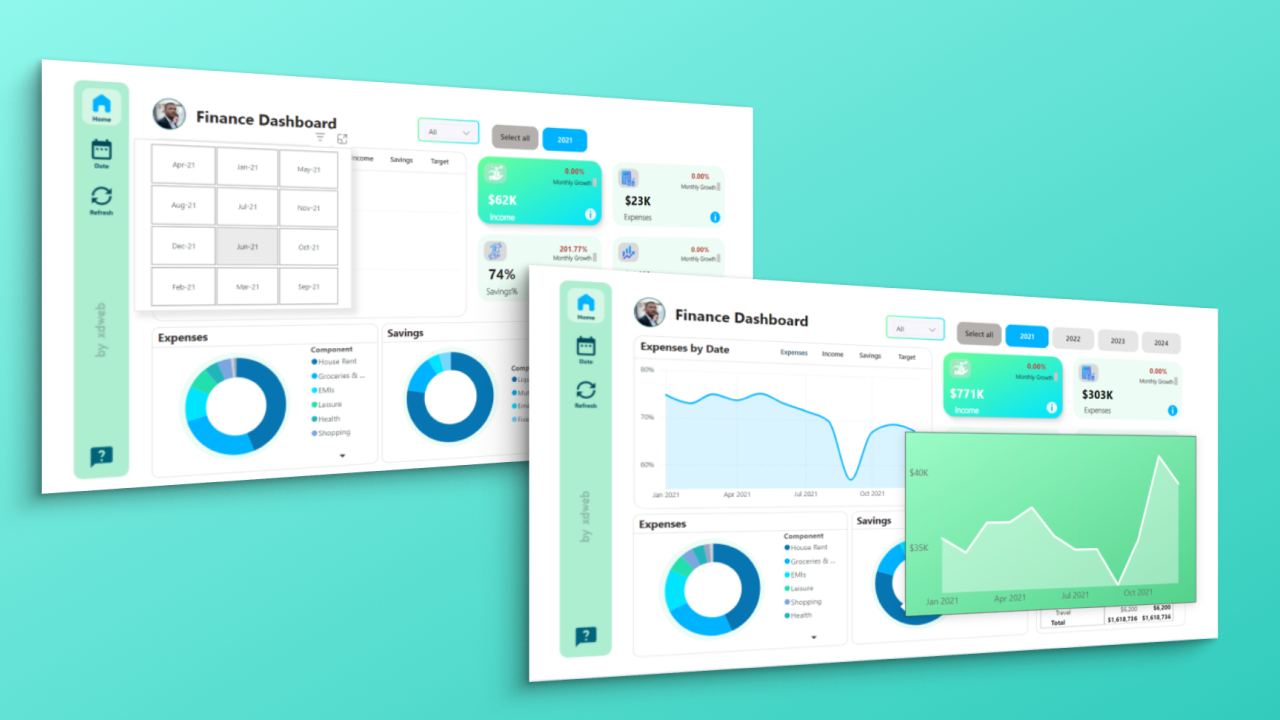

What the dashboard file says about the page in this screenshot:
{"tool":"powerbi","page":{"name":"Page 1","canvas":[1280,720],"ordinal":0},"visuals":[{"type":"donutChart","title":"Savings","fields":{"Y":["Dataset.Savings"],"Category":["Dataset.Component"]},"box":[536.2,437.5,360,252.5],"z":0},{"type":"card","fields":{"Values":["Dataset.Expenses"]},"box":[993.8,167.5,113.8,88.8],"z":1000},{"type":"areaChart","fields":{"Y":["Dataset.Line_Chart_Measures"],"Category":["Dataset.Date"]},"box":[146.4,120,547.3,307.3],"z":2000},{"type":"card","fields":{"Values":["Dataset.Savings"]},"box":[993.8,326.2,108.8,71.2],"z":3000},{"type":"card","fields":{"Values":["Dataset.Savings%"]},"box":[711.2,317.5,107.5,80],"z":4000},{"type":"advancedSlicerVisual","fields":{"Values":["Dataset.Year"]},"box":[753.8,31.2,468.8,58.8],"z":5000},{"type":"donutChart","title":"Expenses","fields":{"Category":["Dataset.Component"],"Y":["Dataset.Expenses"]},"box":[145,437.5,382.5,252.5],"z":6000},{"type":"pivotTable","fields":{"Values":["Dataset.Total_Values"],"Rows":["Dataset.Type","Dataset.Component"],"Columns":["Dataset.Year"]},"box":[913.8,437.5,343.8,252.5],"z":7000},{"type":"card","fields":{"Values":["Dataset.Income"]},"box":[716.4,180.9,97.3,74.5],"z":8000},{"type":"textbox","box":[210.9,55.5,300,46.4],"z":9000},{"type":"slicer","fields":{"Values":["Selected_Date.Month-yr"]},"box":[595.5,55.5,128.2,46.4],"z":10000},{"type":"advancedSlicerVisual","fields":{"Values":["Line_Selection_Table.Type"]},"box":[390.9,122.7,290,37.3],"z":11000},{"type":"card","fields":{"Values":["Dataset.Ex_ws_Sav"]},"box":[573.3,155,150,81.7],"z":12000},{"type":"card","fields":{"Values":["Dataset.Income_Monthly_Gr"]},"box":[882.9,135,61.8,26.4],"z":13000,"group":"g1"},{"type":"card","fields":{"Values":["Dataset.Savings_Monthly_Gr"]},"box":[1161.1,135.5,61.8,26.4],"z":13000,"group":"g3"},{"type":"card","fields":{"Values":["Dataset.Expenses_Monthly_Gr"]},"box":[1153.8,283.9,74.6,23.8],"z":13000,"group":"g4"},{"type":"card","fields":{"Values":["Dataset.Ex_ws_Sav"]},"box":[859.5,286.1,105,28.8],"z":13000,"group":"g2"},{"type":"group","id":"g1","title":"Group 1","box":[861.8,135,103.6,45.9],"z":14000},{"type":"group","id":"g2","title":"Group 1","box":[859.5,286.1,105.9,41.7],"z":15000},{"type":"textbox","box":[861.8,153.6,103.6,27.3],"z":15001,"group":"g1"},{"type":"textbox","box":[1140,154.1,103.6,27.3],"z":15001,"group":"g3"},{"type":"textbox","box":[861.8,300.5,103.6,27.3],"z":15001,"group":"g2"},{"type":"textbox","box":[1140,300.5,103.6,27.3],"z":15001,"group":"g4"},{"type":"group","id":"g3","title":"Group 1","box":[1140,135.5,103.6,45.5],"z":16000},{"type":"group","id":"g4","title":"Group 1","box":[1140,283.9,103.6,43.8],"z":17000}]}

Visuals, with their boxes in screenshot pixels (x1, y1, x2, y2), scaled from the page's 1280x720 canvas onto the 1280x720 screenshot:
"Savings" donutChart: <box>536,438,896,690</box>
card - Dataset.Expenses: <box>994,168,1108,256</box>
areaChart - Dataset.Line_Chart_Measures x Dataset.Date: <box>146,120,694,427</box>
card - Dataset.Savings: <box>994,326,1103,397</box>
card - Dataset.Savings%: <box>711,318,819,398</box>
advancedSlicerVisual - Dataset.Year: <box>754,31,1223,90</box>
"Expenses" donutChart: <box>145,438,528,690</box>
pivotTable - Dataset.Total_Values x Dataset.Type: <box>914,438,1258,690</box>
card - Dataset.Income: <box>716,181,814,255</box>
textbox: <box>211,56,511,102</box>
slicer - Selected_Date.Month-yr: <box>596,56,724,102</box>
advancedSlicerVisual - Line_Selection_Table.Type: <box>391,123,681,160</box>
card - Dataset.Ex_ws_Sav: <box>573,155,723,237</box>
card - Dataset.Income_Monthly_Gr: <box>883,135,945,161</box>
card - Dataset.Savings_Monthly_Gr: <box>1161,136,1223,162</box>
card - Dataset.Expenses_Monthly_Gr: <box>1154,284,1228,308</box>
card - Dataset.Ex_ws_Sav: <box>860,286,964,315</box>
"Group 1" group: <box>862,135,965,181</box>
"Group 1" group: <box>860,286,965,328</box>
textbox: <box>862,154,965,181</box>
textbox: <box>1140,154,1244,181</box>
textbox: <box>862,300,965,328</box>
textbox: <box>1140,300,1244,328</box>
"Group 1" group: <box>1140,136,1244,181</box>
"Group 1" group: <box>1140,284,1244,328</box>
